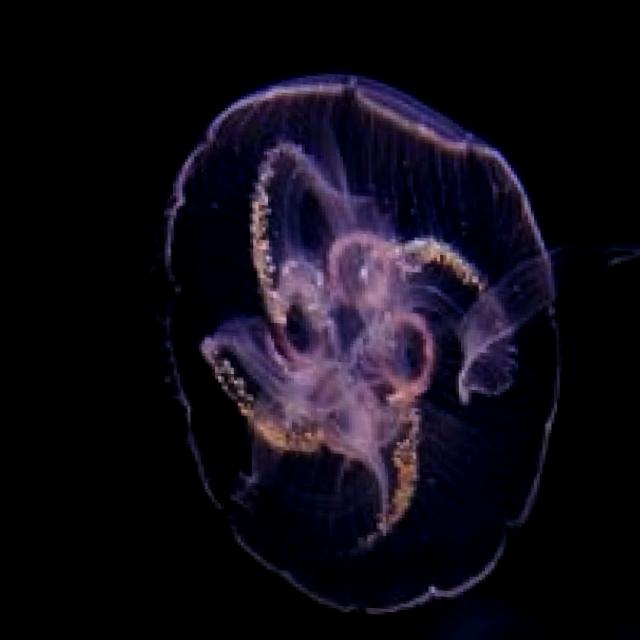Moon-jellyfish: (144, 51, 640, 626)
